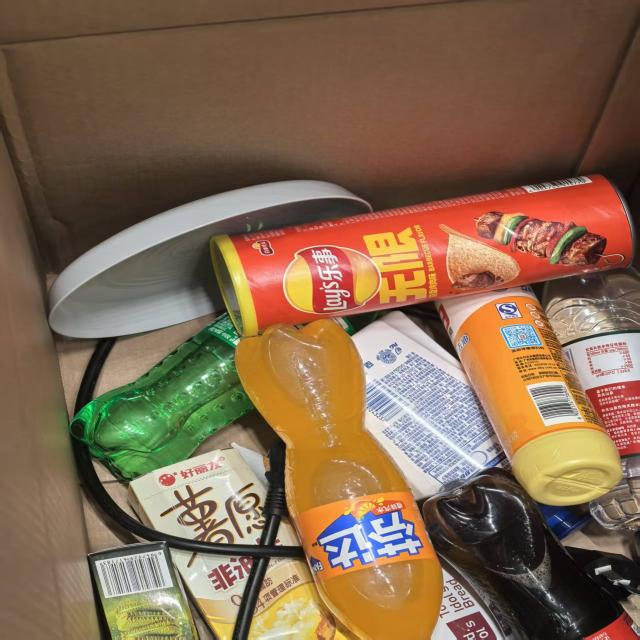orange: (312, 494, 426, 565)
